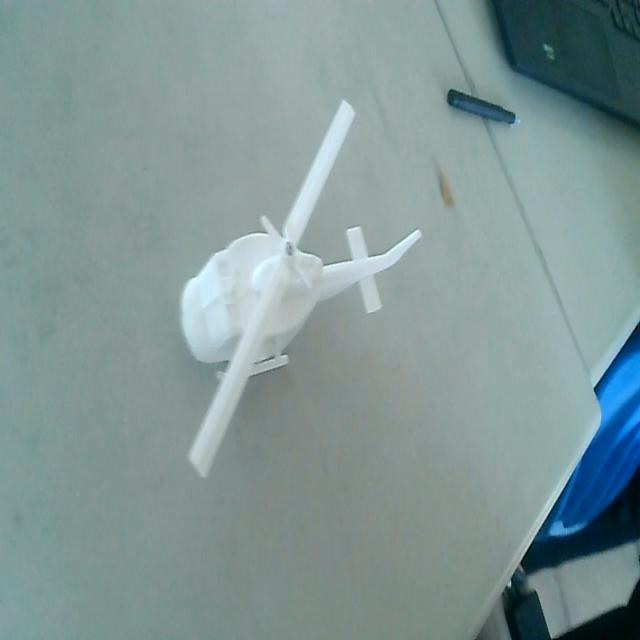Helicopter: (178, 94, 427, 490)
